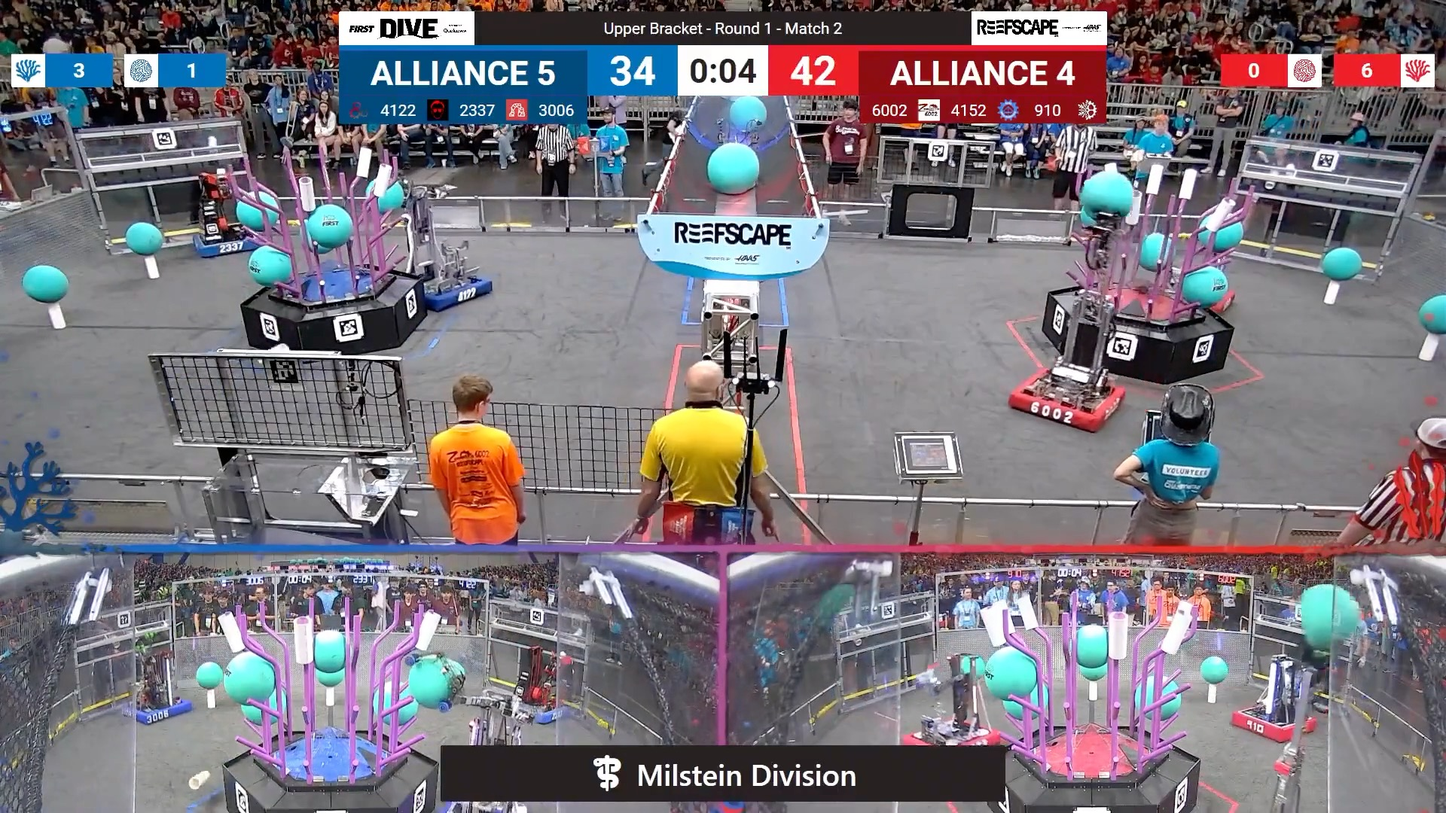bumpers: (1002, 367, 1134, 435), (397, 260, 502, 313), (1225, 701, 1323, 744), (902, 714, 1007, 748), (185, 223, 271, 262), (117, 693, 199, 729), (510, 696, 575, 728)
